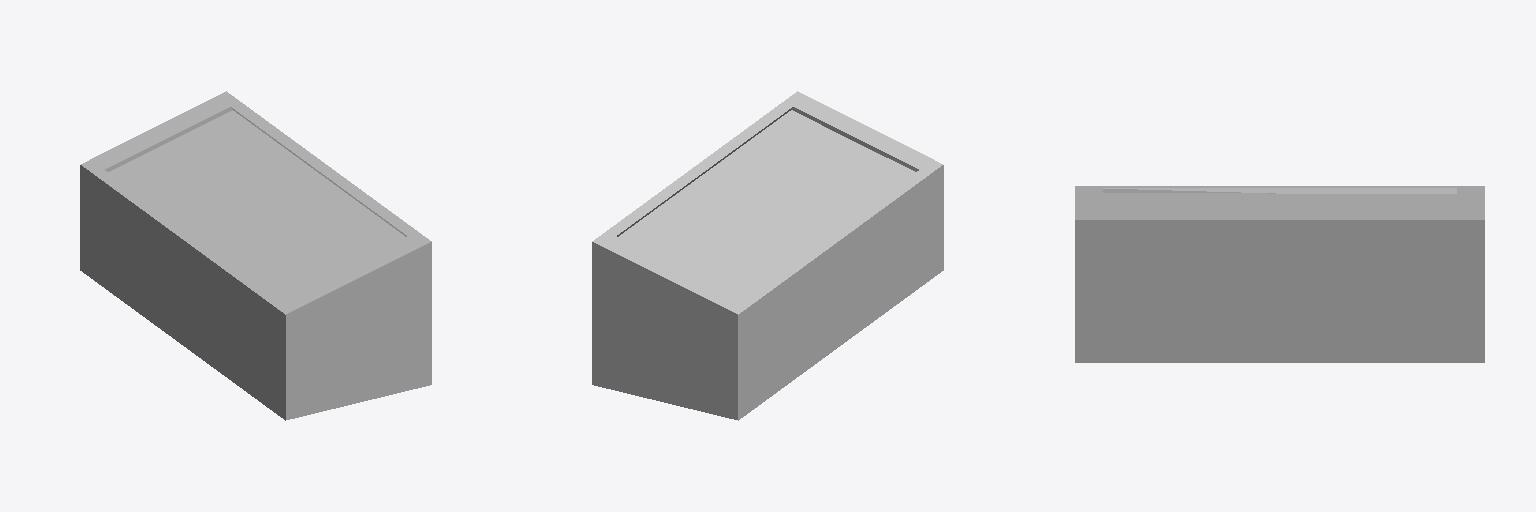
The model's file is Medbay_Console.obj.
The picture shows the model from 3 angles: view 1: azimuth 30°, elevation 25°; view 2: azimuth 150°, elevation 25°; view 3: azimuth 270°, elevation 25°; orthographic projection.
Parts seen in each view (by area): view 1: default; view 2: default; view 3: default.
Part boxes in pixels (x1,y1,x2,y2): default: (80, 91, 431, 420); default: (592, 91, 943, 420); default: (1075, 186, 1484, 362).
Bounding box in the file's own units: 11.72 × 11.01 × 28.5.